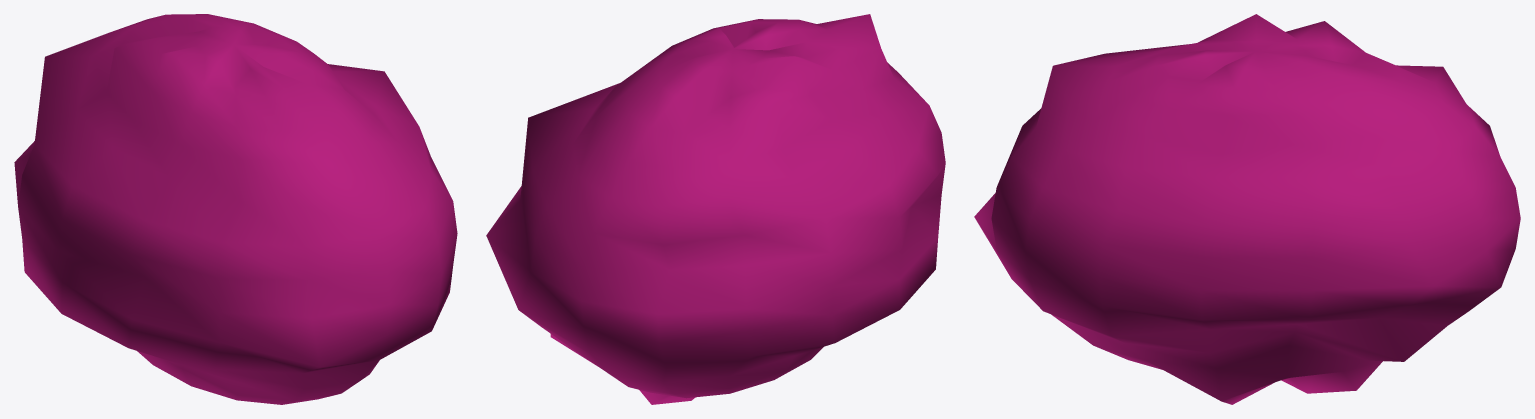
File: Bloedplaatje.fbx
3 renders of one model, left to right at view 1: azimuth 30°, elevation 25°; view 2: azimuth 150°, elevation 25°; view 3: azimuth 270°, elevation 25°, orthographic. The views are drawn at different scales.
Visible parts, largest first — view 1: Sphere.001; view 2: Sphere.001; view 3: Sphere.001.
Part boxes in pixels (box(x1,y1,x2,y2)): Sphere.001: box(14, 14, 457, 404); Sphere.001: box(486, 14, 945, 404); Sphere.001: box(974, 14, 1520, 404).
Size of the model in its own units: 17380 by 16592 by 24005.
